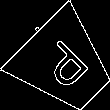P_SE: (34, 34, 96, 96)
